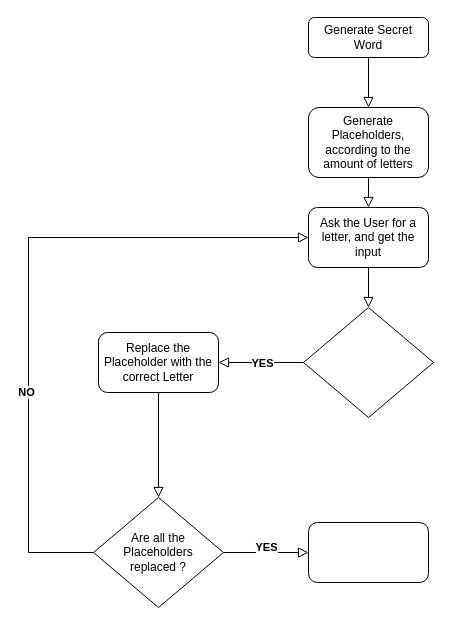
Some shapes in this 451 by 625 pixel diagram are drawn without their labels. The box of each missing label's shape, as (x1, y1, x2, y2) in pixels:
Game is finished: (308, 522, 428, 582)
Was the letter in the word ?: (302, 306, 434, 418)
